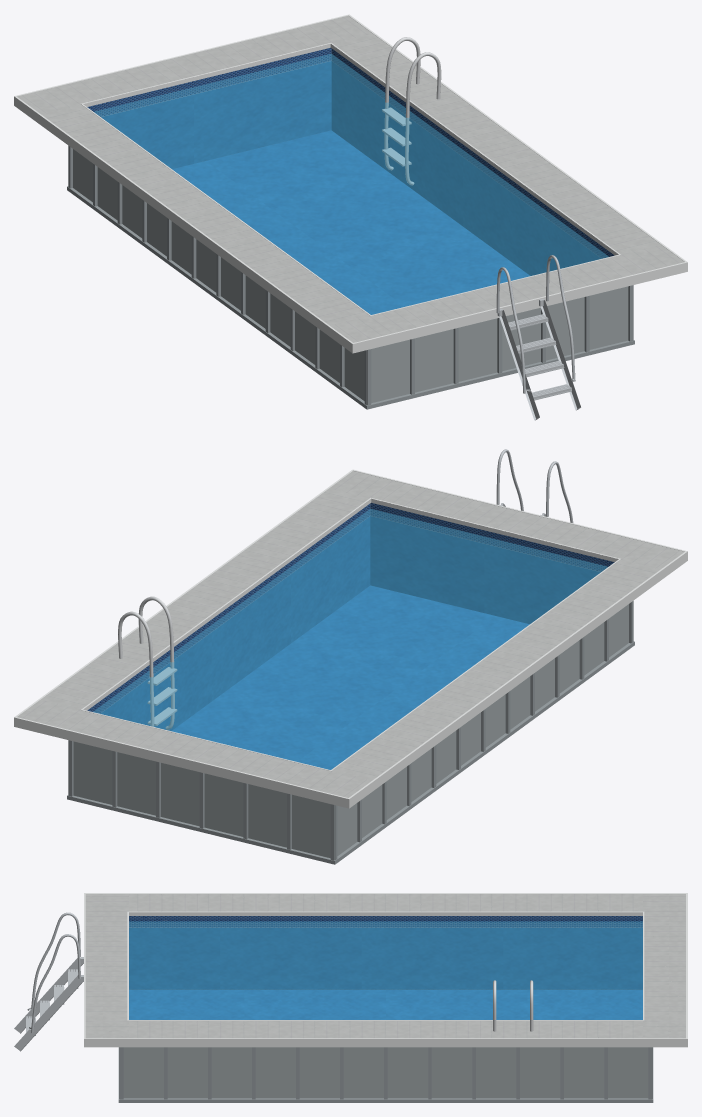
Rendered from kayak-pool-12x24-gray-walk-ag-nofence.c0a468c2a0.glb.
3 views of the same model, one above another, from view 1: azimuth 30°, elevation 25°; view 2: azimuth 150°, elevation 25°; view 3: azimuth 270°, elevation 25° (orthographic). The views are drawn at different scales.
Parts seen in each view (by area): view 1: water, deck, liner_wall, liner_floor, wall, fascia, upright, ladder, steel; view 2: water, deck, liner_wall, liner_floor, wall, fascia, upright, steel, ladder; view 3: water, liner_wall, deck, wall, liner_floor, fascia, upright, ladder, steel.
Boxes of the visible parts, box(x1,y1,x2,y2) form: water: box(94, 53, 608, 314); deck: box(17, 16, 684, 342); liner_wall: box(87, 47, 614, 275); liner_floor: box(172, 130, 529, 314); wall: box(73, 149, 628, 402); fascia: box(14, 14, 687, 353); upright: box(67, 145, 634, 409); ladder: box(496, 255, 580, 420); steel: box(382, 37, 441, 185); water: box(93, 509, 607, 769); deck: box(17, 471, 684, 797); liner_wall: box(87, 502, 614, 730); liner_floor: box(172, 585, 529, 769); wall: box(73, 604, 628, 858); fascia: box(14, 469, 687, 808); upright: box(67, 601, 634, 864); steel: box(118, 596, 177, 729); ladder: box(496, 449, 573, 522); water: box(129, 921, 642, 1019); liner_wall: box(129, 916, 642, 989); deck: box(85, 894, 685, 1038); wall: box(123, 1047, 648, 1098); liner_floor: box(129, 990, 642, 1019); fascia: box(84, 893, 687, 1047); upright: box(118, 1047, 653, 1102); ladder: box(14, 912, 83, 1051); steel: box(493, 980, 533, 1031).
Size of the model in its own units: 4.88 by 1.9 by 9.52.
Materials: 10 (3 with a texture image).
